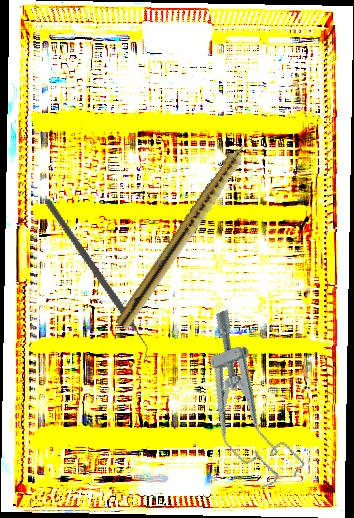Chopper: (1, 197, 190, 365)
Handpiece: (114, 129, 262, 333)
Speculum: (178, 304, 309, 497)
